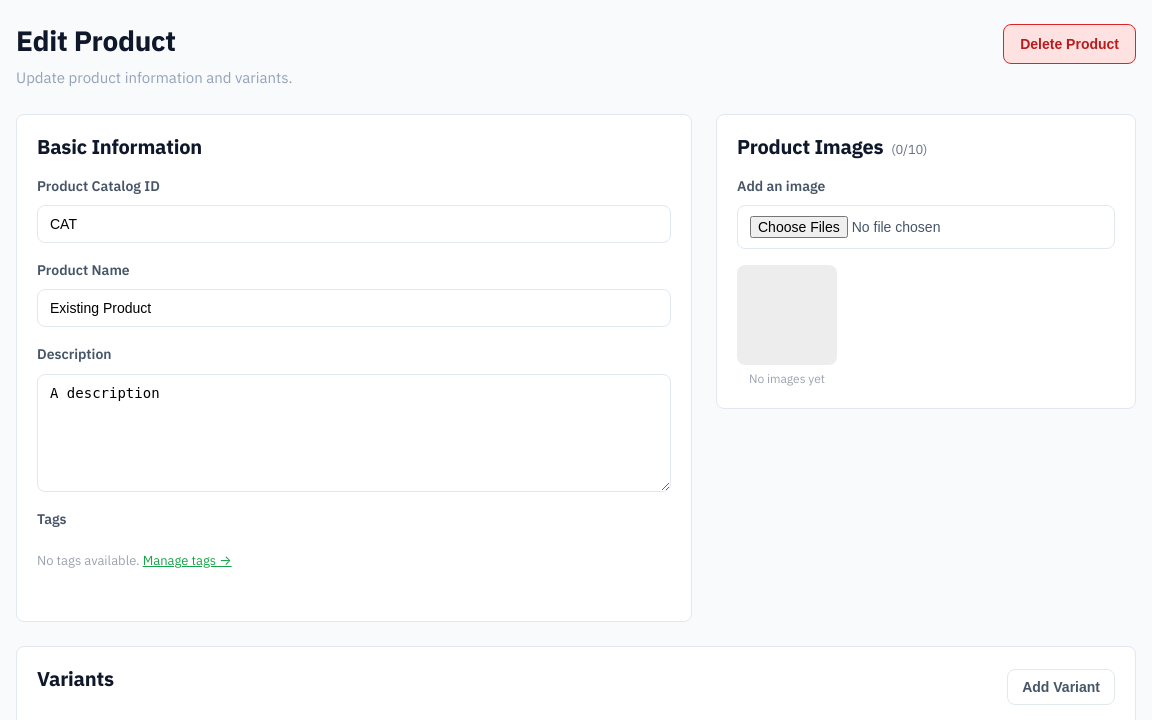
Test: AdminProductDetailPage › delete confirmation — edit mode › opens ConfirmDialog (not window.confirm) when Delete Product is clicked
Click the button "Delete Product".
click(1070, 44)  # box 1003,24 -> 1136,64
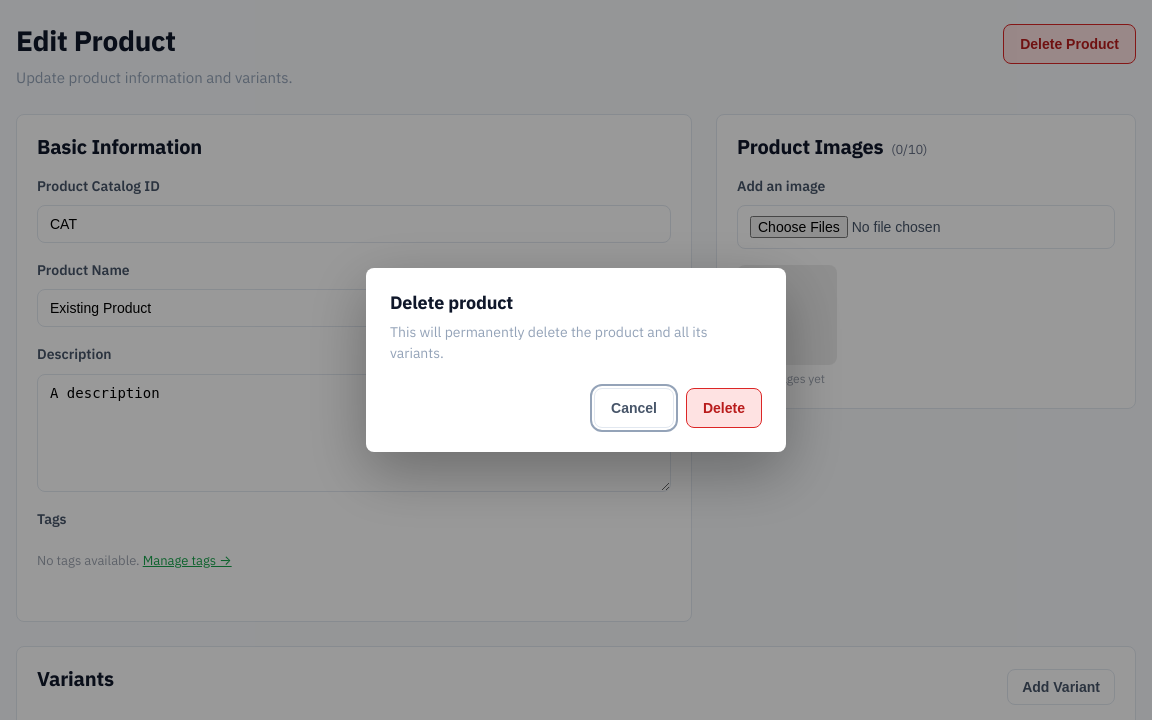
expect the dialog is shown: met, box 366,268 -> 786,452
expect the heading "Delete product" is shown: met, box 390,291 -> 513,314
